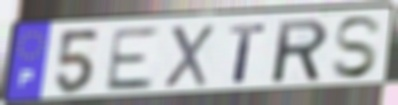5: (52, 26, 103, 98)
E: (102, 25, 161, 94)
R: (272, 17, 331, 86)
S: (329, 14, 386, 82)
T: (228, 22, 268, 85)
X: (161, 23, 216, 90)
